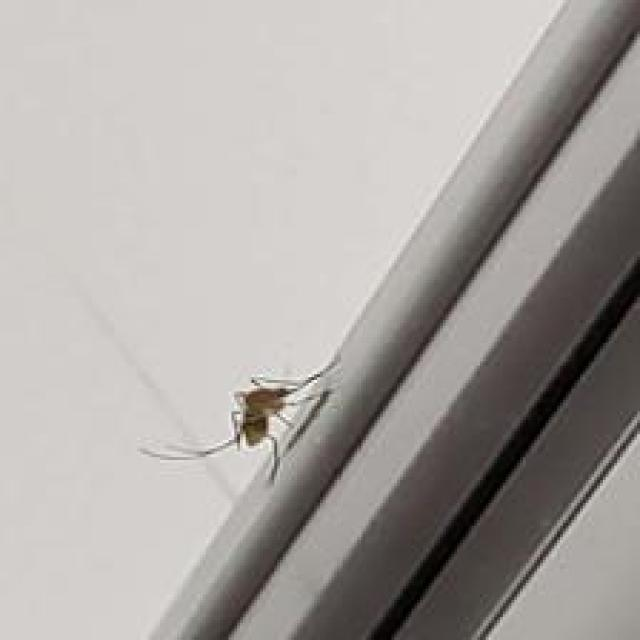Culex: (136, 353, 341, 484)
